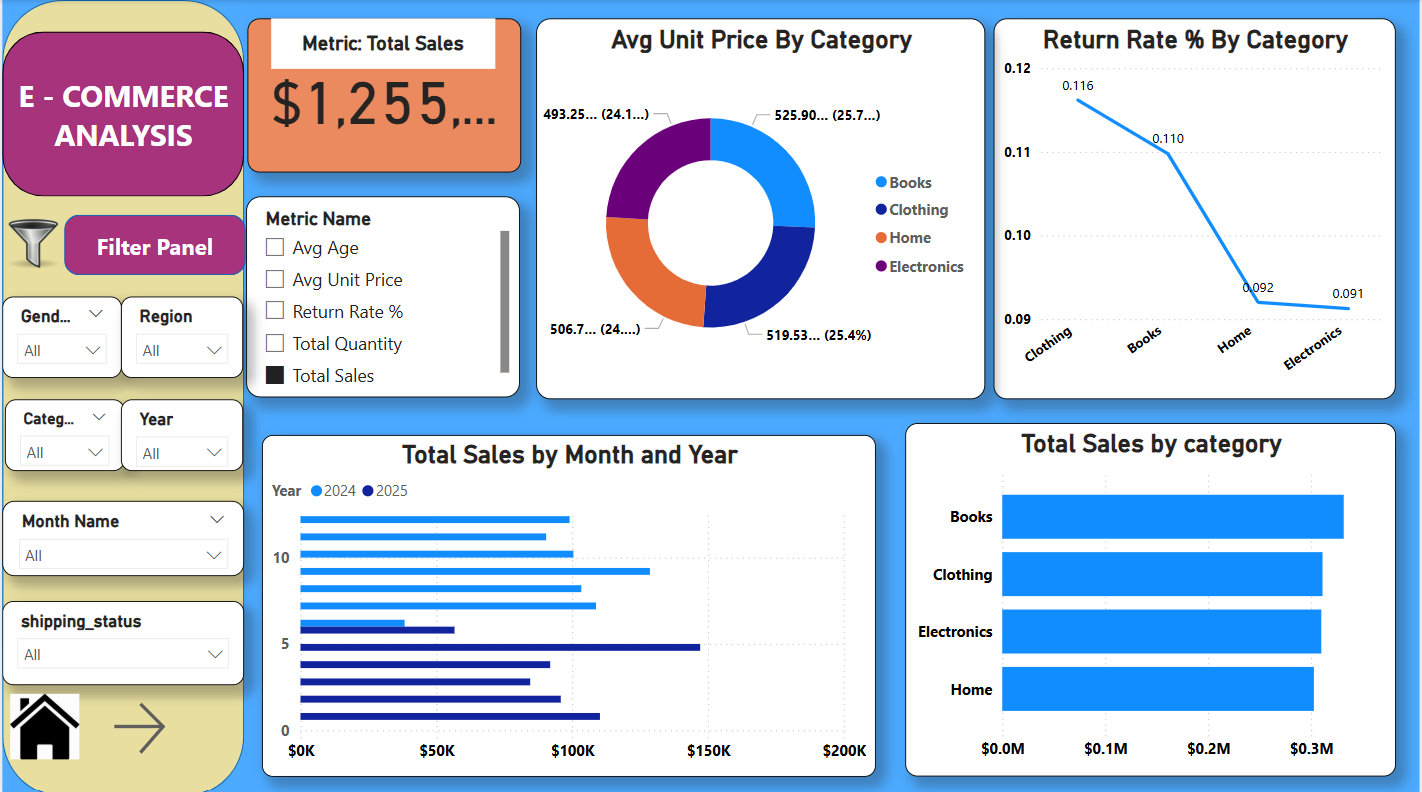

The page's visual inventory and layout, read from the dashboard file:
{"tool":"powerbi","page":{"name":"Page 1","canvas":[1280,720],"ordinal":0},"visuals":[{"type":"slicer","fields":{"Values":["KPI Selector.Metric Name"]},"box":[219.7,177.5,247,181.2],"z":0},{"type":"card","fields":{"Values":["KPI Selector.Selected KPI Value"]},"box":[220.9,16.1,247,139],"z":1000},{"type":"shape","box":[0,0,218.5,719.9],"z":3000},{"type":"clusteredBarChart","fields":{"Category":["ecommerce_data_1000.category"],"Y":["ecommerce_data_1000.Total Sales"]},"box":[815.6,382.6,443.4,318.8],"z":4000},{"type":"clusteredBarChart","fields":{"Category":["ecommerce_data_1000.Month"],"Series":["ecommerce_data_1000.Year"],"Y":["ecommerce_data_1000.Total Sales"]},"box":[234.3,393,554.6,308.4],"z":5000},{"type":"lineChart","title":"Return Rate % By Category","fields":{"Category":["ecommerce_data_1000.category"],"Y":["KPI Selector.Return Rate by Category"]},"box":[895.7,16.3,363.3,344],"z":6000},{"type":"donutChart","title":"Avg Unit Price By Category","fields":{"Category":["ecommerce_data_1000.category"],"Y":["KPI Selector.Avg Unit Price by Category"]},"box":[481.6,16.1,405.9,343.8],"z":7000},{"type":"slicer","fields":{"Values":["ecommerce_data_1000.gender"]},"box":[0,268.1,108,73.2],"z":8000},{"type":"slicer","fields":{"Values":["ecommerce_data_1000.Month Name"]},"box":[0,451.8,218.5,68.3],"z":9000},{"type":"slicer","fields":{"Values":["ecommerce_data_1000.category"]},"box":[2.5,361.2,108,64.5],"z":10000},{"type":"slicer","fields":{"Values":["ecommerce_data_1000.region"]},"box":[106.8,268.1,110.5,73.2],"z":11000},{"type":"slicer","fields":{"Values":["ecommerce_data_1000.shipping_status"]},"box":[0,542.4,218.5,75.7],"z":12000},{"type":"slicer","fields":{"Values":["ecommerce_data_1000.Year"]},"box":[106.8,361.2,110.5,64.5],"z":12002},{"type":"shape","box":[55.9,193.6,163.8,54.6],"z":12004},{"type":"image","box":[0,188.7,55.9,64.5],"z":12005},{"type":"shape","box":[0,28.5,218.5,149],"z":12006},{"type":"image","box":[2.5,618.2,72,77],"z":12007},{"type":"actionButton","box":[94.3,628.1,86.9,58.3],"z":12008},{"type":"card","fields":{"Values":["KPI Selector.Selected KPI Title"]},"box":[243.3,16.1,202.3,45.9],"z":12009}]}

Visuals, with their boxes in screenshot pixels (x1, y1, x2, y2), scaled from the page's 1280x720 canvas onto the 1422x792 screenshot:
slicer - KPI Selector.Metric Name: 244 195 518 395
card - KPI Selector.Selected KPI Value: 245 18 520 171
shape: 0 0 243 791
clusteredBarChart - ecommerce_data_1000.category x ecommerce_data_1000.Total Sales: 906 421 1399 772
clusteredBarChart - ecommerce_data_1000.Month x ecommerce_data_1000.Year: 260 432 876 772
"Return Rate % By Category" lineChart: 995 18 1399 396
"Avg Unit Price By Category" donutChart: 535 18 986 396
slicer - ecommerce_data_1000.gender: 0 295 120 375
slicer - ecommerce_data_1000.Month Name: 0 497 243 572
slicer - ecommerce_data_1000.category: 3 397 123 468
slicer - ecommerce_data_1000.region: 119 295 241 375
slicer - ecommerce_data_1000.shipping_status: 0 597 243 680
slicer - ecommerce_data_1000.Year: 119 397 241 468
shape: 62 213 244 273
image: 0 208 62 279
shape: 0 31 243 195
image: 3 680 83 765
actionButton: 105 691 201 755
card - KPI Selector.Selected KPI Title: 270 18 495 68
